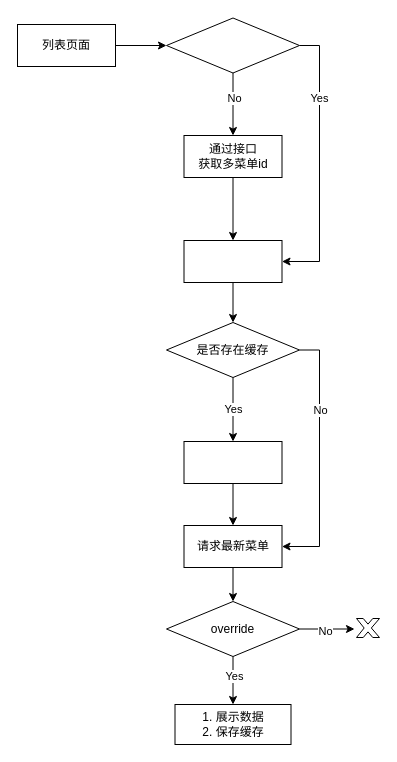
Some shapes in this 397 by 762 pixel diagram are drawn without their labels. The shapes that lost their labels are listed below. From the top down, each one's centre as x and y in pixels, then its label:
At [233,45]: "是否存在多菜单id".
At [232,261]: "根据多菜单id查询本地缓存".
At [232,462]: "展示本地缓存".
